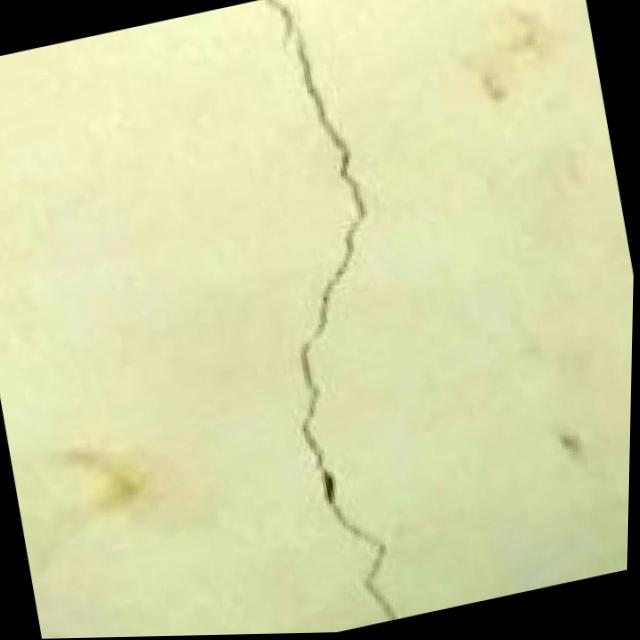Crack: (185, 0, 506, 637)
